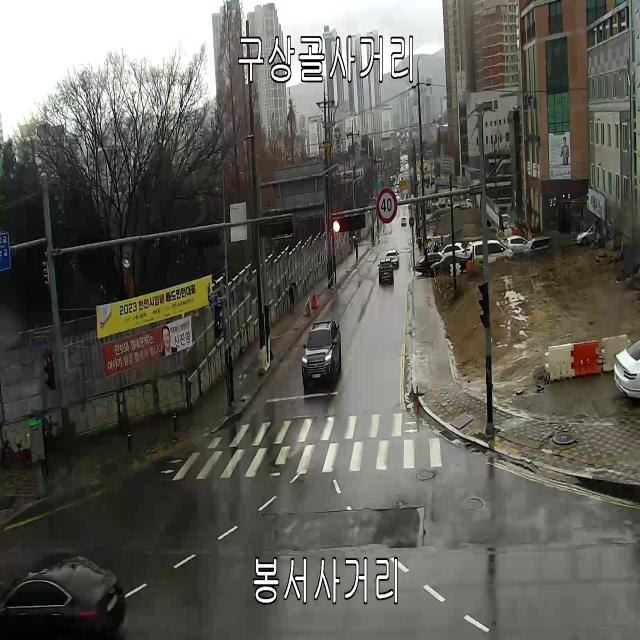Car: (0, 554, 127, 640), (301, 320, 341, 384), (613, 334, 640, 398), (471, 241, 513, 264), (430, 242, 465, 265), (429, 255, 467, 276), (524, 237, 552, 258), (378, 258, 394, 286), (576, 224, 593, 246), (386, 250, 400, 267), (460, 198, 472, 209), (466, 242, 472, 258), (401, 218, 406, 225)
